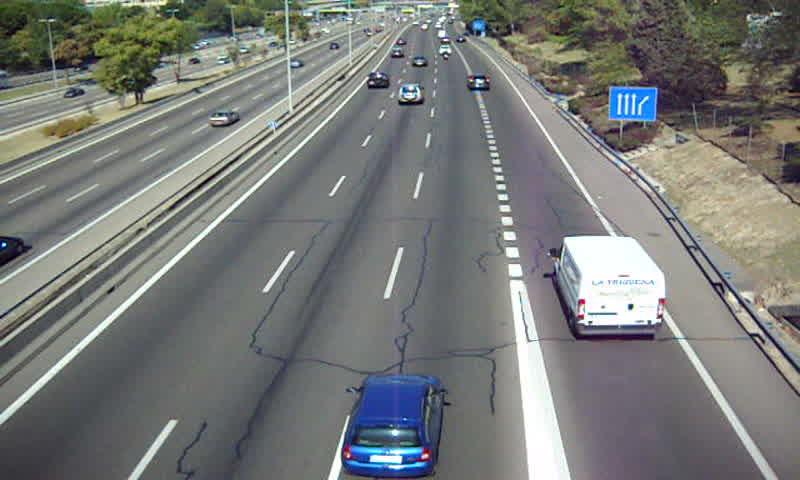car: (341, 373, 443, 476), (396, 85, 425, 106), (467, 75, 493, 92), (366, 72, 389, 89)
van: (549, 235, 666, 336)
